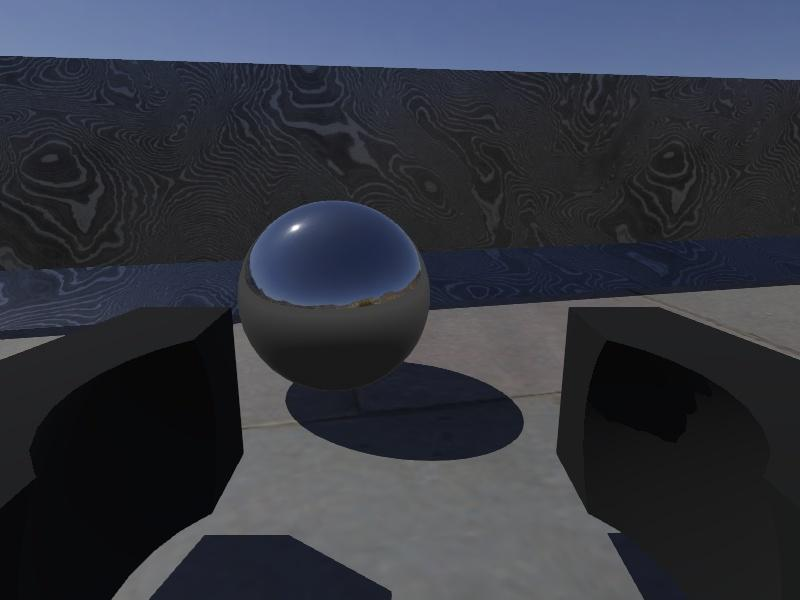steel ball: (237, 199, 432, 394)
